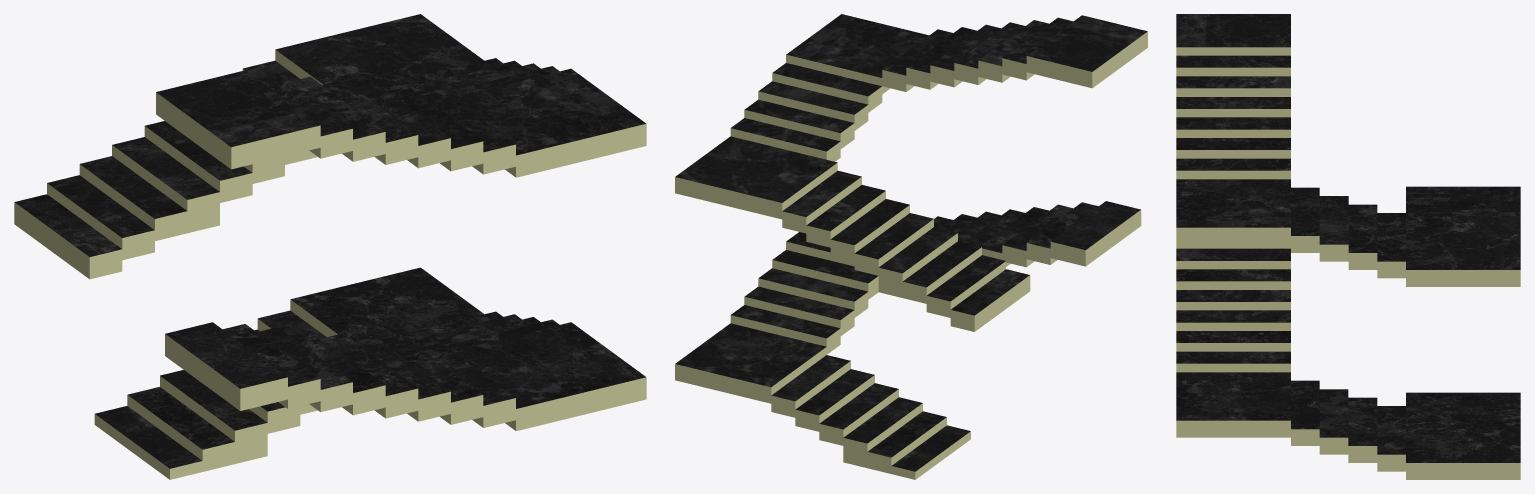
Rendered from stair.fbx.
The picture shows the model from 3 angles, left to right: view 1: azimuth 30°, elevation 25°; view 2: azimuth 150°, elevation 25°; view 3: azimuth 270°, elevation 25°; orthographic projection. The views are drawn at different scales.
Parts seen in each view (by area): view 1: Plane.036; view 2: Plane.036; view 3: Plane.036.
Part boxes in pixels (x1=…): Plane.036: x1=14, y1=14, x2=646, y2=479; Plane.036: x1=675, y1=14, x2=1147, y2=479; Plane.036: x1=1176, y1=14, x2=1520, y2=479.
Size of the model in its own units: 630 by 673 by 593.
Materials: 2 (1 with a texture image).
